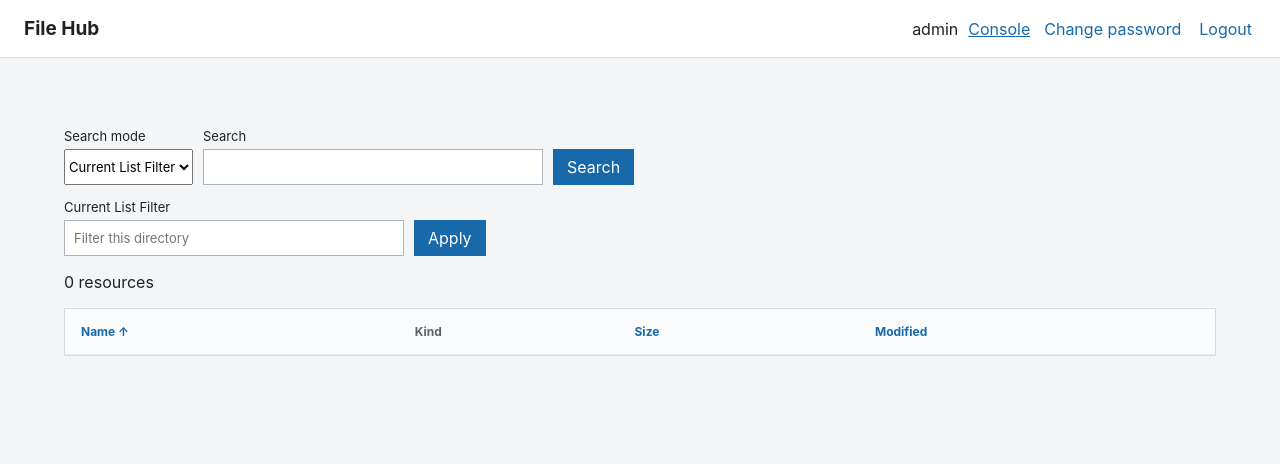
File Hub browser › changes password and returns to anonymous identity
Click the button "Change password" at [1113, 28], box [1040,14,1185,42]
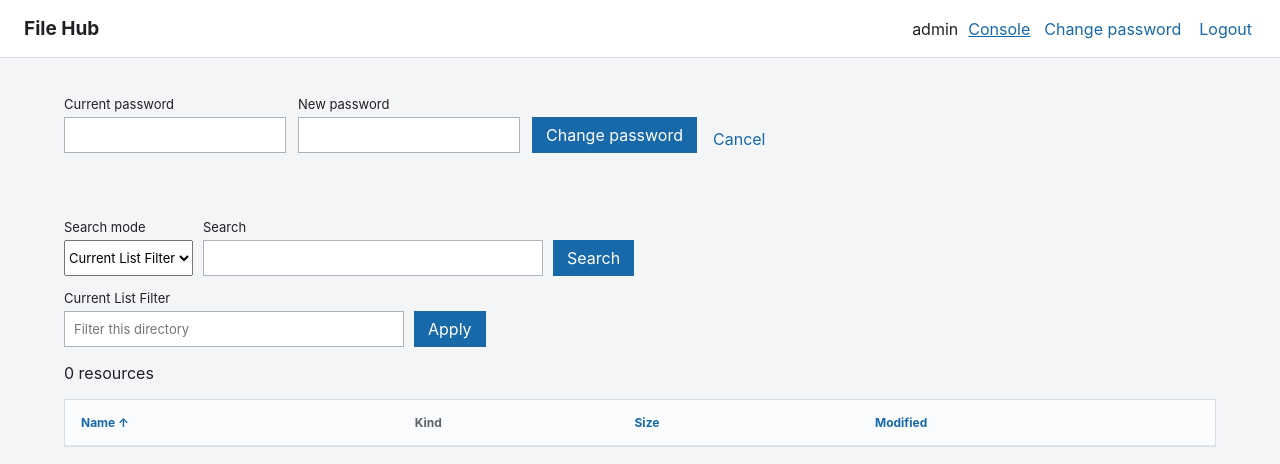
Type "bootstrap-password" into the password field with id "old-password" at [175, 135], box [64,117,286,153]
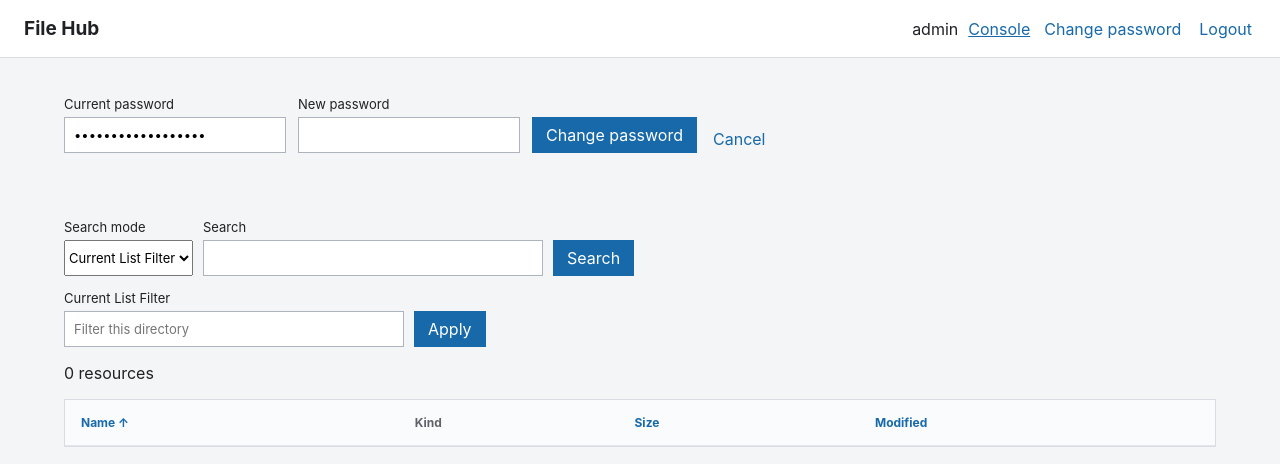
Type "replacement-password" into the password field with id "new-password" at [409, 135], box [298,117,520,153]
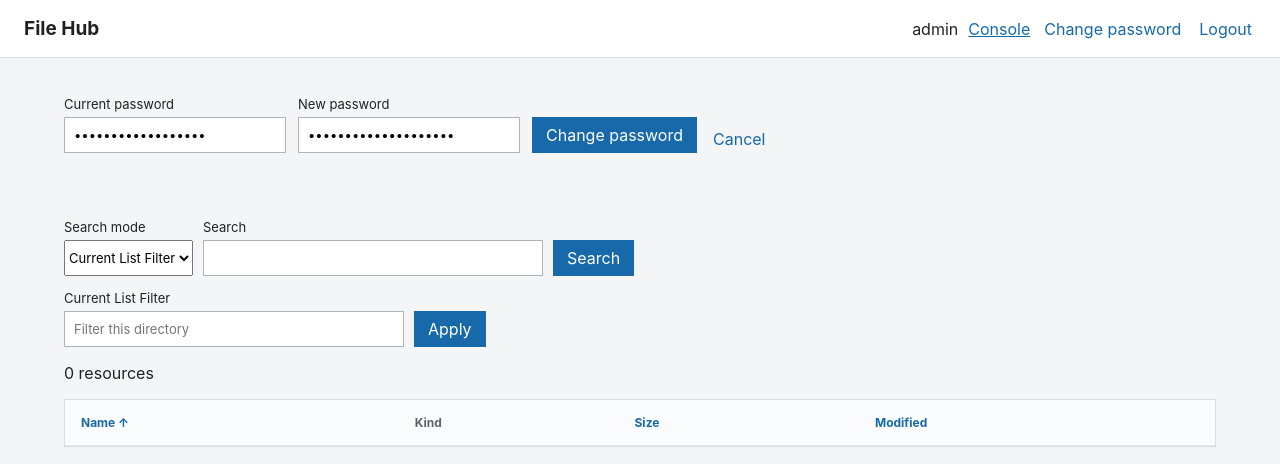
Submit the form "Current password New password Change password Cancel", box [64,96,770,153]
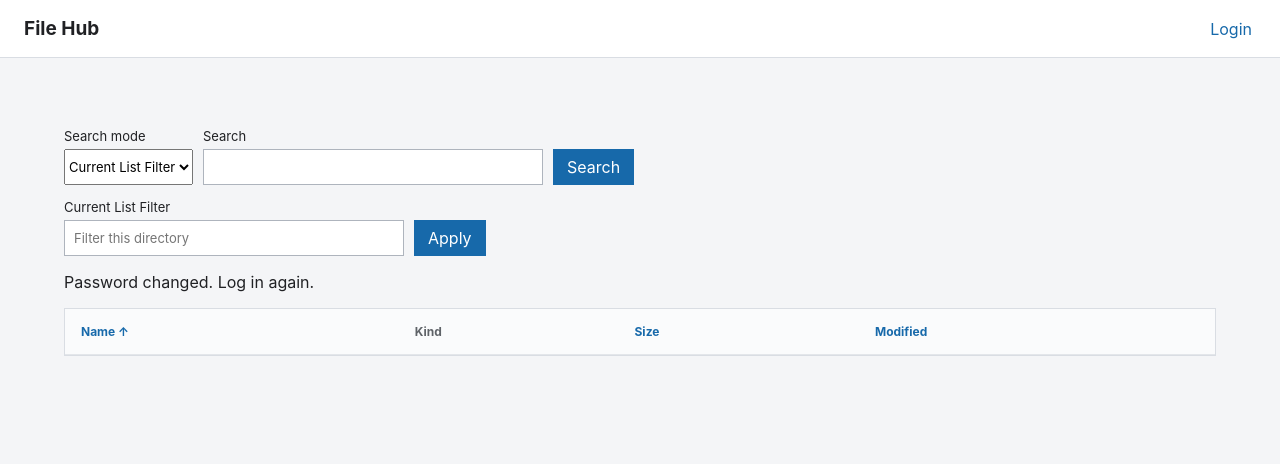
expect the button with id "login-action" reads "Login": met, box [1206,14,1256,42]
